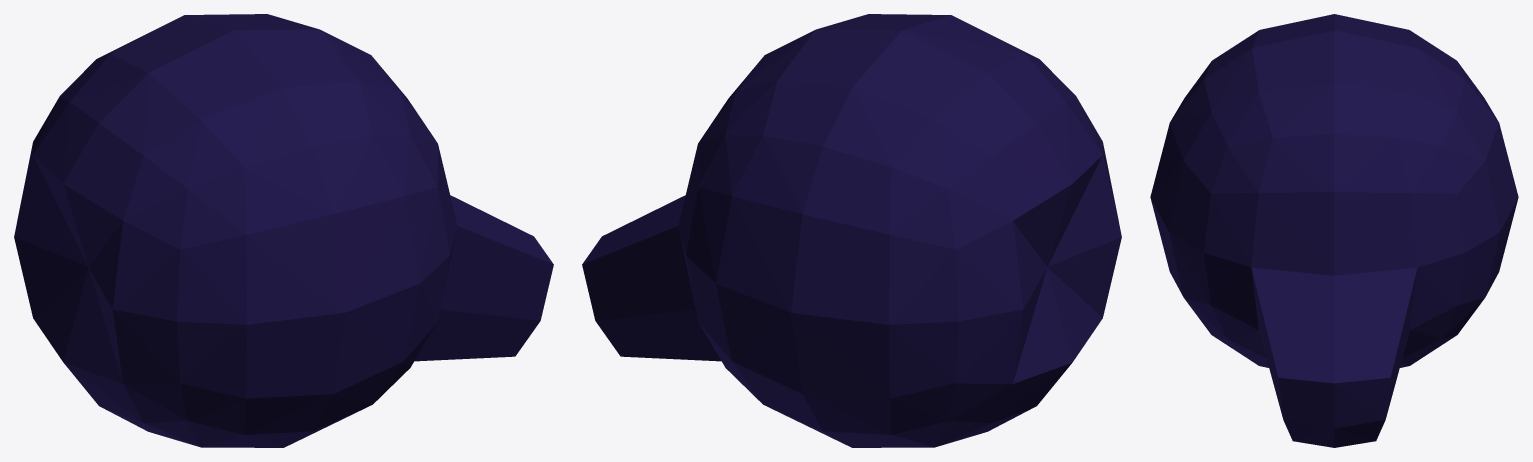
Rendered from light.obj.
3 renders of one model, left to right at view 1: azimuth 30°, elevation 25°; view 2: azimuth 150°, elevation 25°; view 3: azimuth 270°, elevation 25°, orthographic. The views are drawn at different scales.
Parts seen in each view (by area): view 1: Cube; view 2: Cube; view 3: Cube.
Boxes of the visible parts, x1=… form: Cube: x1=14, y1=14, x2=553, y2=447; Cube: x1=582, y1=14, x2=1121, y2=447; Cube: x1=1150, y1=14, x2=1518, y2=447.
Size of the model in its own units: 1.24 by 1.01 by 1.01.
Materials: 1 (1 with a texture image).
